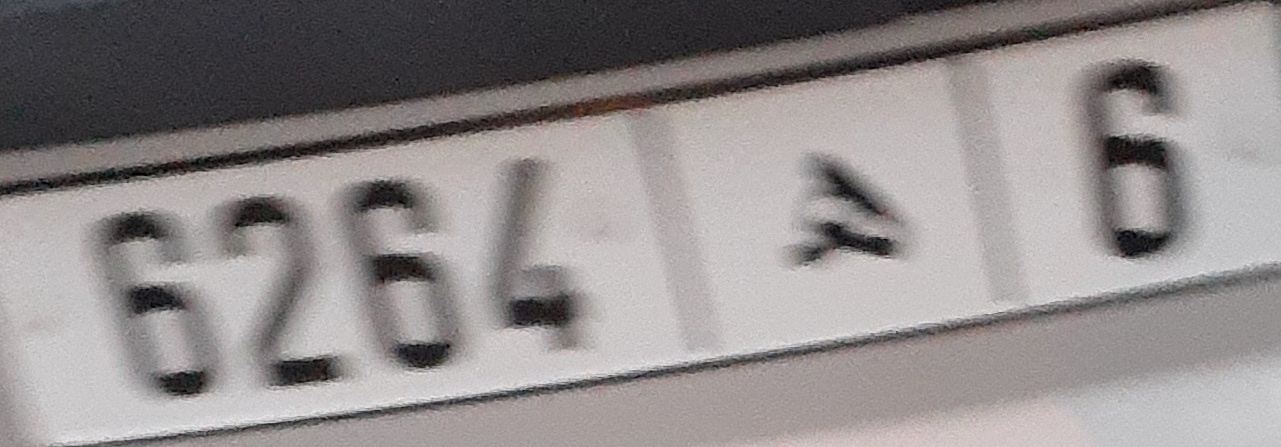2: (761, 138, 921, 279)
4: (335, 177, 468, 368)
6: (86, 196, 224, 403), (1076, 54, 1196, 259), (491, 155, 597, 354)
h: (216, 193, 340, 396)
